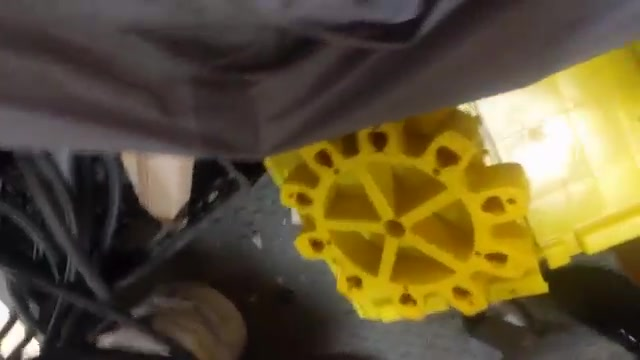gear: (262, 103, 538, 316)
